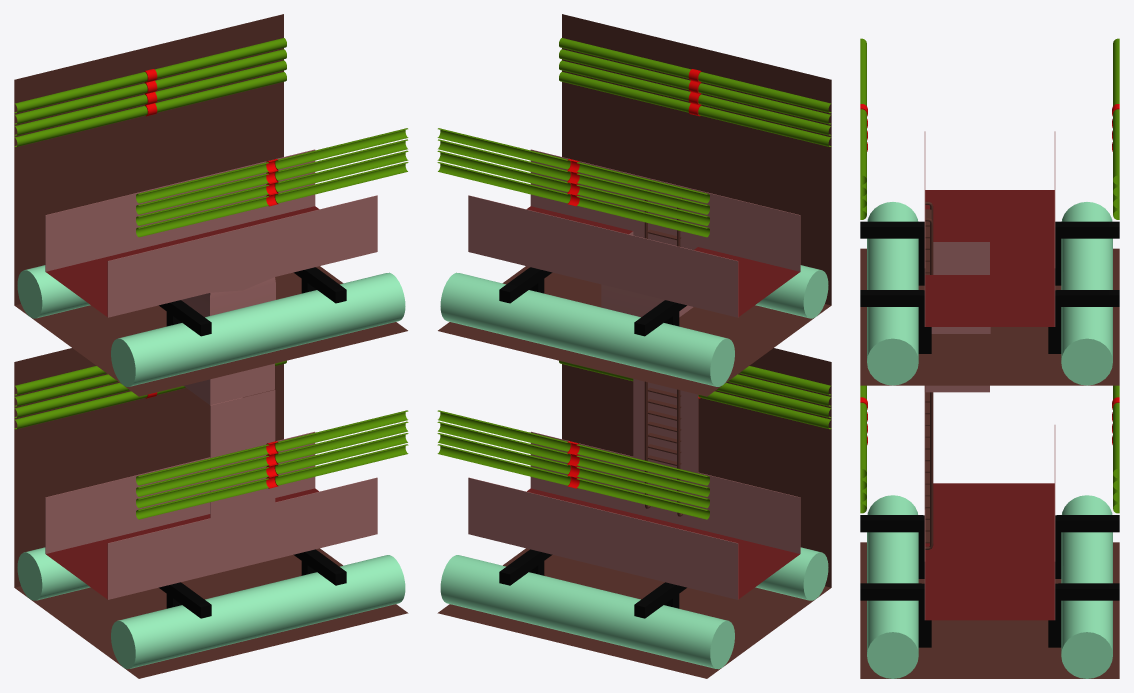
The model's file is StraightPieceStair.fbx.
3 views of the same model, side by side, from view 1: azimuth 30°, elevation 25°; view 2: azimuth 150°, elevation 25°; view 3: azimuth 270°, elevation 25° (orthographic). The views are drawn at different scales.
Visible parts, largest first — view 1: StraightPieceStair; view 2: StraightPieceStair; view 3: StraightPieceStair.
Boxes of the visible parts, bbox=[...] form: StraightPieceStair: bbox=[14, 14, 408, 678]; StraightPieceStair: bbox=[437, 14, 831, 678]; StraightPieceStair: bbox=[860, 38, 1119, 678].
Bounding box in the file's own units: 5 × 9 × 4.
